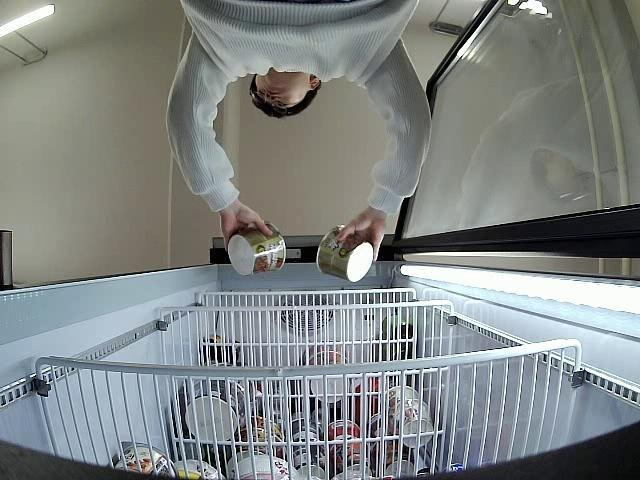03_chapagetti_L: (228, 222, 286, 279), (316, 225, 374, 282)
